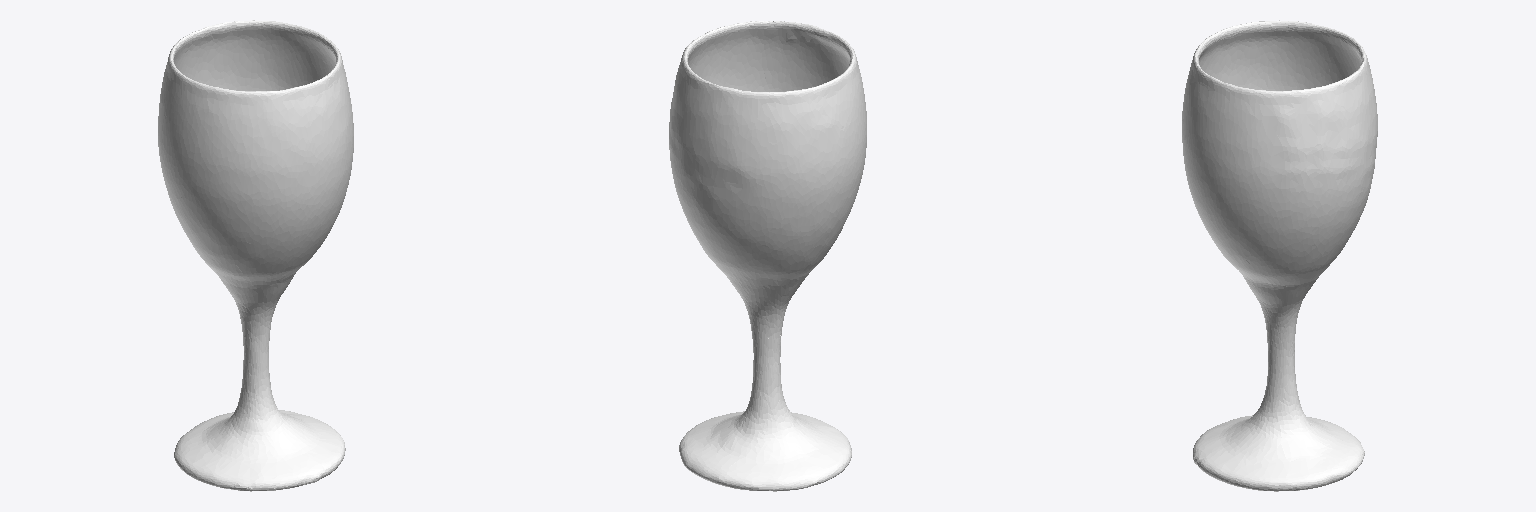
URDF robot description (125_wine_glass_0):
<?xml version='1.0' encoding='utf-8'?>
<robot name="125_wine_glass_0">
        <link name="link_0">
            <visual>
                <origin xyz="0.0 0.0 0.0" rpy="0.0 0.0 0.0" />
                <geometry>
                    <mesh filename="textured_objs/textured.obj" scale="1 1 1.0" />
                </geometry>
                <material name="white">
                    <color rgba="1 1 1 1" />
                </material>
            </visual>
            <collision>
                <origin xyz="0.0 0.0 0.0" rpy="0.0 0.0 0.0" />
                <geometry>
                    <mesh filename="textured_objs/textured.obj" scale="1 1 1.0" />
                </geometry>
            </collision>
            <inertial>
                <mass value="0.1" />
                <inertia ixx="0.0001" ixy="0.0" ixz="0.0" iyy="0.0001" iyz="0.0" izz="0.0001" />
            </inertial>
        </link>
    </robot>

--- What the picture shows (computed from the rendered views, not written in the file) ---
The picture shows the robot from 3 angles, left to right: view 1: azimuth 30°, elevation 25°; view 2: azimuth 150°, elevation 25°; view 3: azimuth 270°, elevation 25°; orthographic projection.
Model 125_wine_glass_0 with 1 links and 0 joints (none), rooted at link_0, posed every joint at zero.
Links seen in each view (by area): view 1: link_0; view 2: link_0; view 3: link_0.
Link boxes in pixels (x1,y1,x2,y2): link_0: (158, 20, 353, 491); link_0: (669, 21, 866, 491); link_0: (1182, 20, 1377, 491).
Size in the robot's own frame: 0.0789 by 0.0786 by 0.1773 metres.
Meshes: 1 distinct files referenced, 1 mesh visuals loaded (1 OBJ).